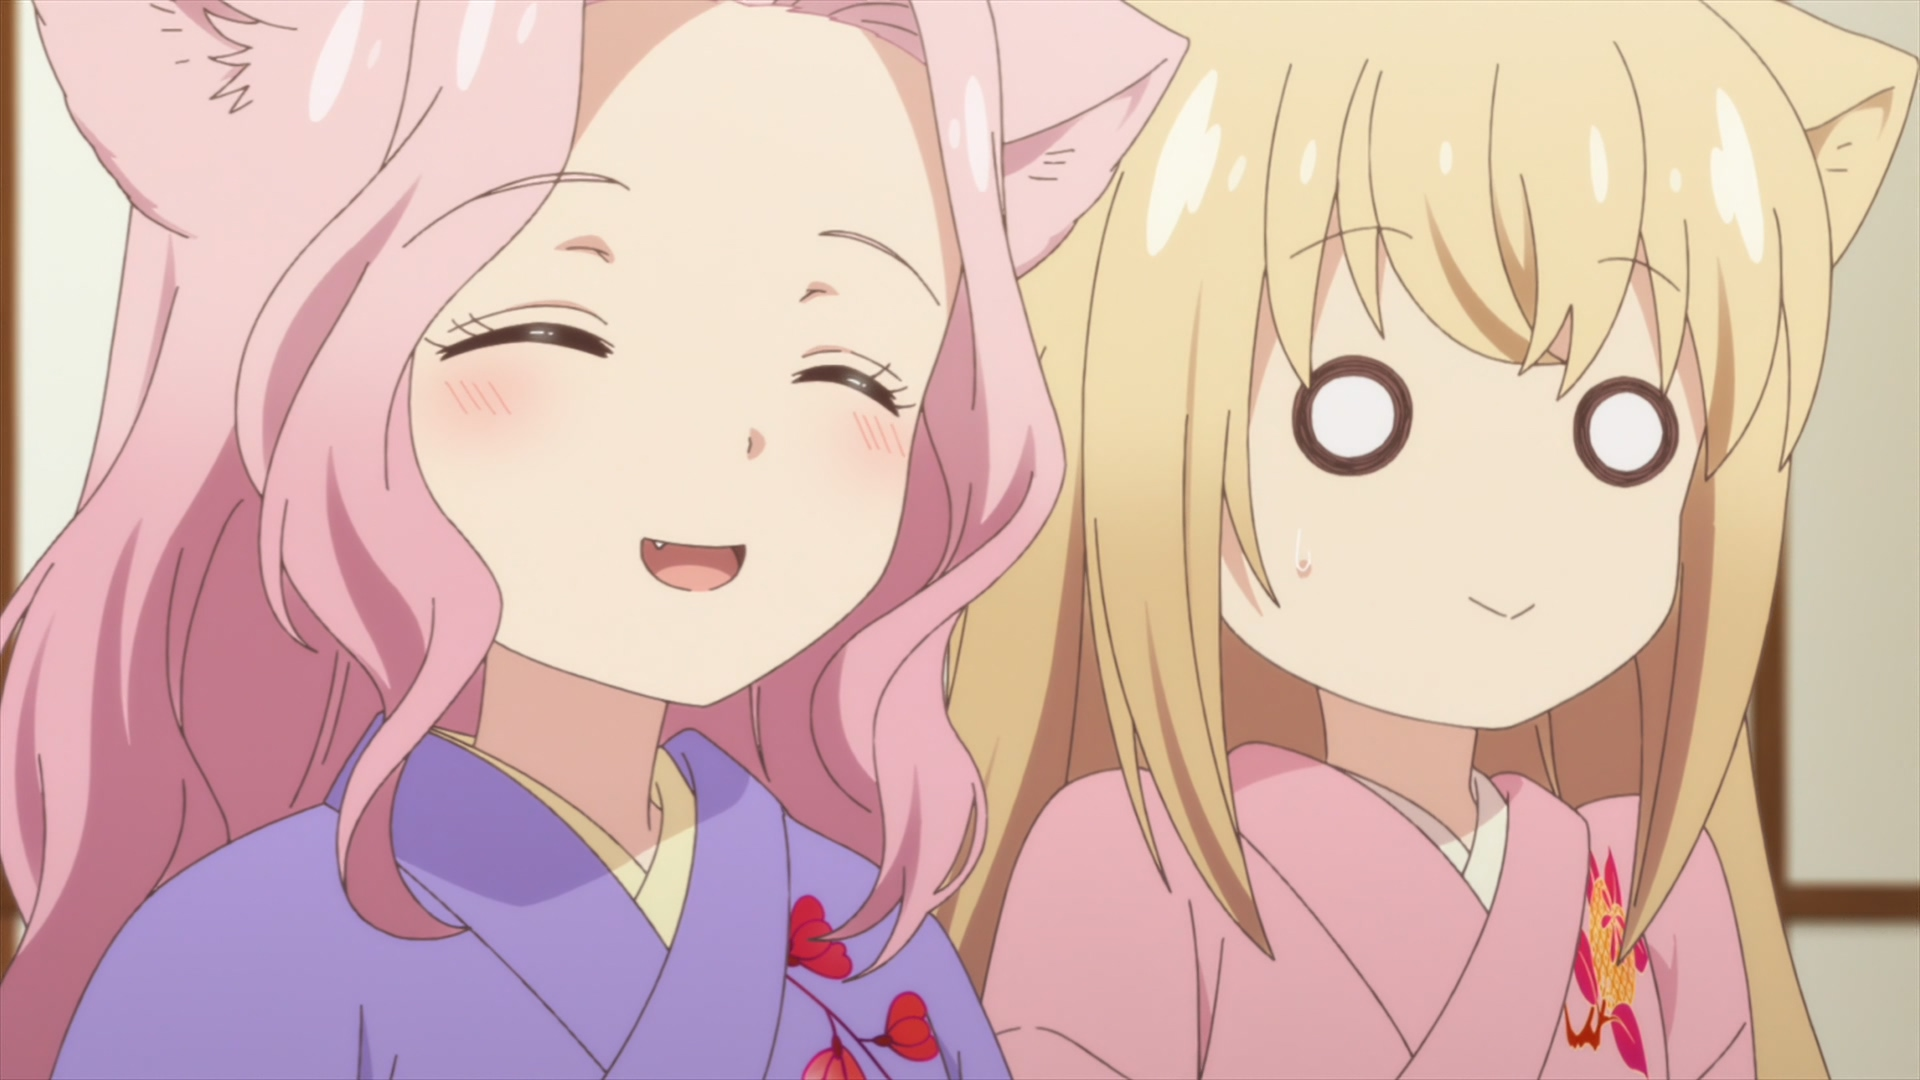柚: (931, 1, 1920, 1080)
莲: (1, 1, 1189, 1080)
